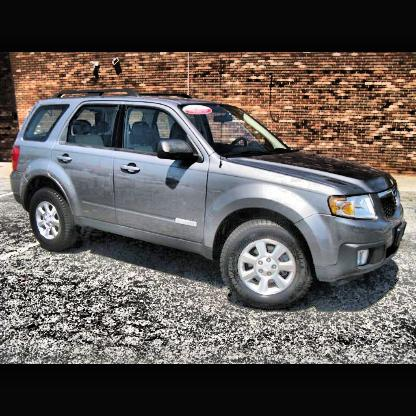Mazda Tribute SUV 2011: (12, 90, 410, 312)
